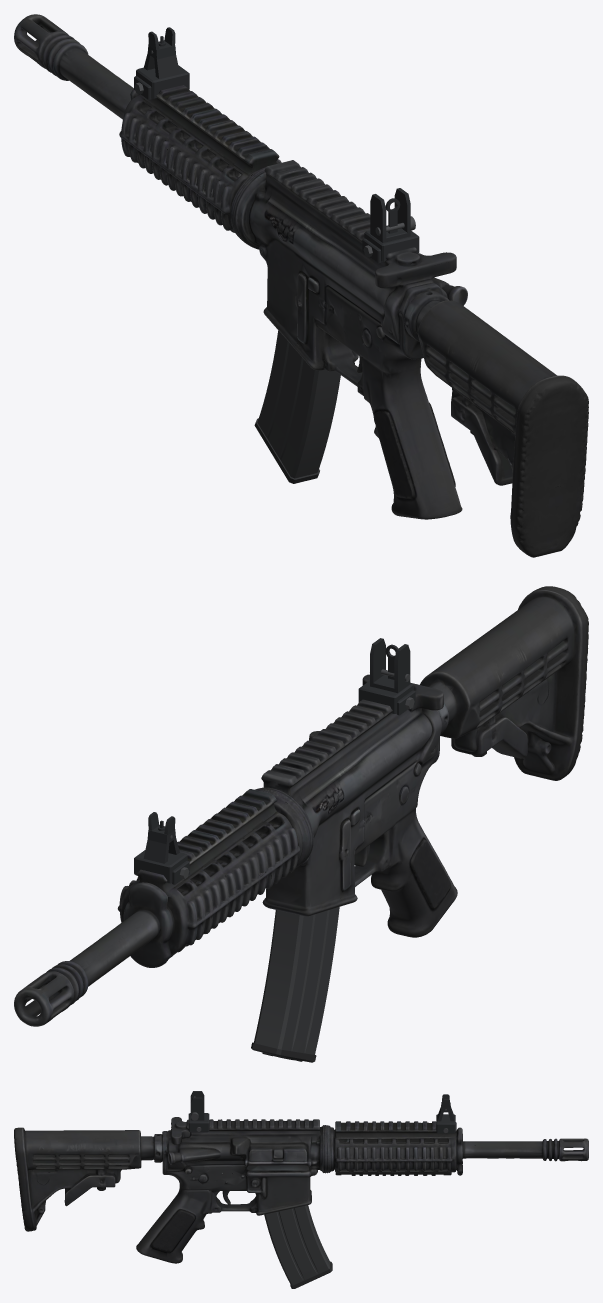
3 views of the same model, one above another, from view 1: azimuth 30°, elevation 25°; view 2: azimuth 150°, elevation 25°; view 3: azimuth 270°, elevation 25° (orthographic). The views are drawn at different scales.
Parts seen in each view (by area): view 1: Body, Magazine, Sights; view 2: Body, Magazine, Sights; view 3: Body, Magazine, Sights.
Boxes of the visible parts, left/top/right/bottom form: Body: left=14, top=14, right=588, bottom=557; Magazine: left=254, top=330, right=340, bottom=483; Sights: left=134, top=27, right=419, bottom=263; Body: left=14, top=586, right=588, bottom=1026; Magazine: left=251, top=907, right=339, bottom=1062; Sights: left=134, top=638, right=415, bottom=884; Body: left=14, top=1117, right=588, bottom=1263; Magazine: left=264, top=1205, right=332, bottom=1288; Sights: left=188, top=1091, right=455, bottom=1133.
Bounding box in the file's own units: 0.0855 × 0.3079 × 0.84.
8 materials, 1 textured.
